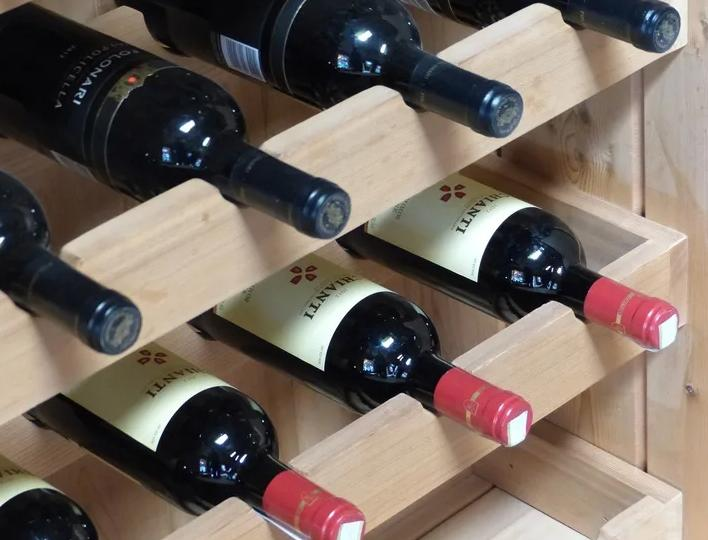wine bottle: (0, 0, 353, 241), (26, 338, 368, 540), (188, 251, 533, 449), (340, 168, 679, 354), (143, 0, 523, 139), (0, 171, 144, 356), (399, 0, 682, 55), (0, 452, 100, 540)
wine label: (214, 249, 393, 372), (65, 337, 237, 454), (367, 169, 536, 279), (41, 34, 146, 155), (2, 451, 56, 508)
